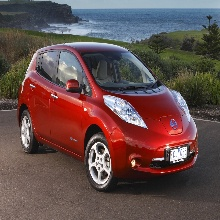no damage: (17, 41, 199, 192)
